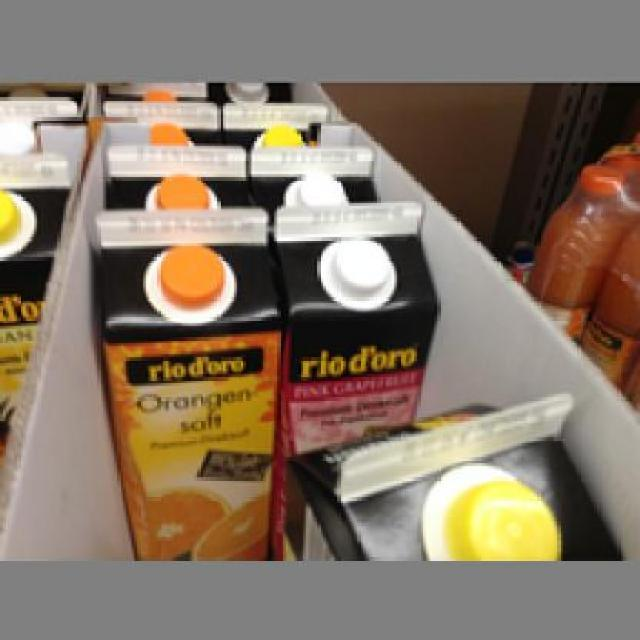Juice: (86, 202, 266, 555), (269, 195, 440, 454)
